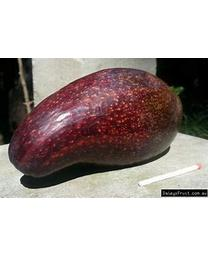avocado: (8, 67, 185, 179)
